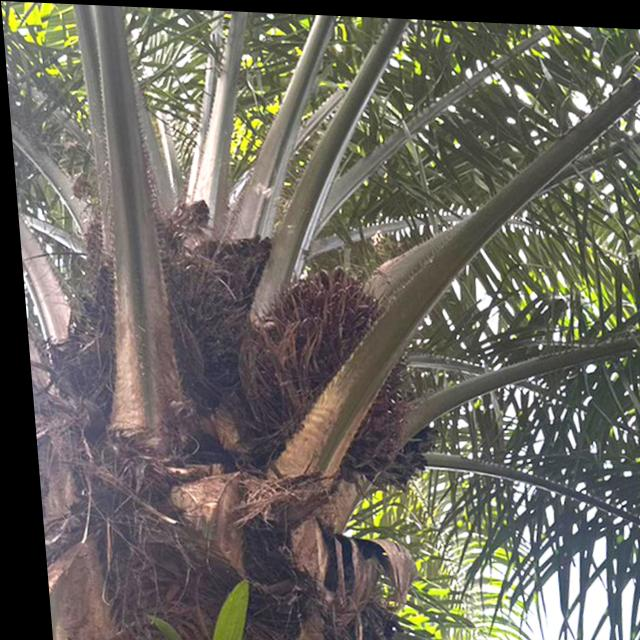ripe: (238, 257, 406, 436)
